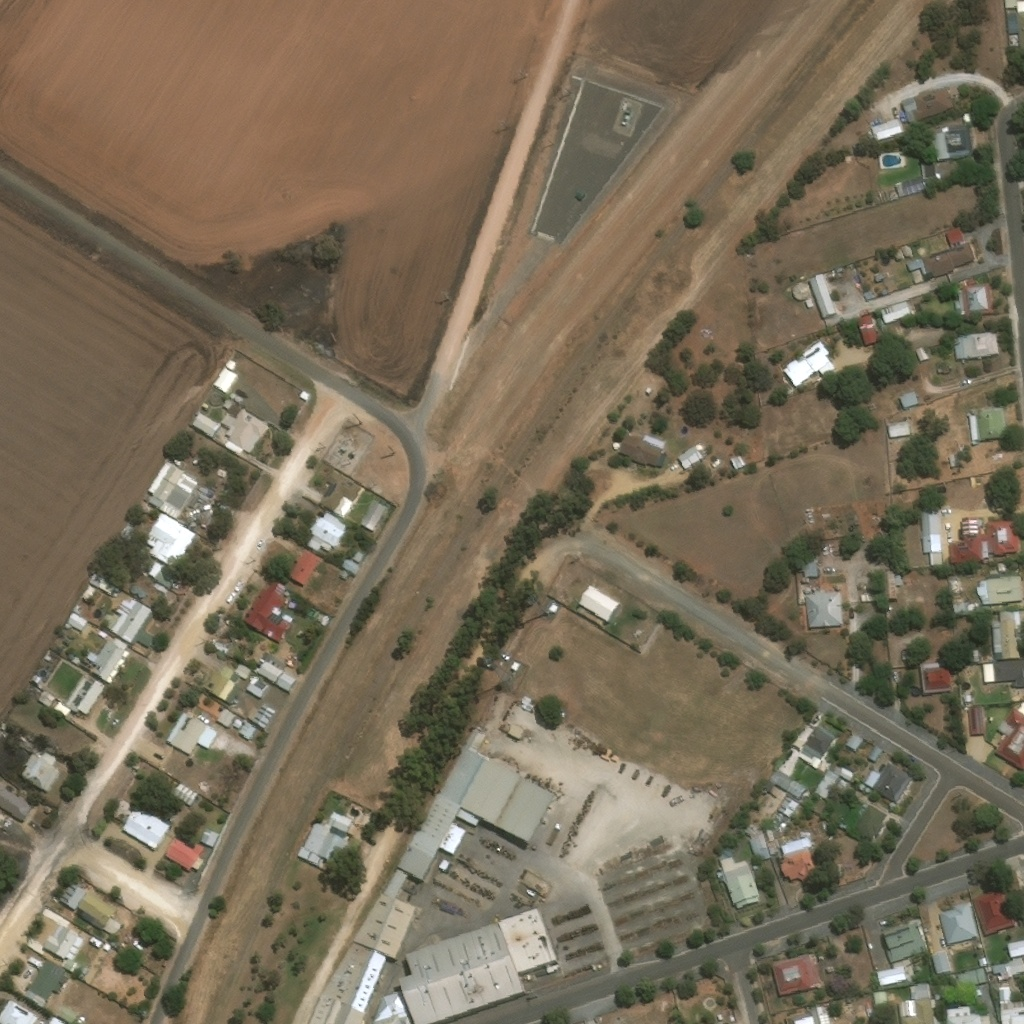0 no-damage: (397, 728, 555, 878), (400, 904, 556, 1023), (351, 891, 416, 960), (332, 949, 385, 1023), (239, 579, 295, 644), (948, 518, 1017, 562), (142, 513, 196, 568), (145, 462, 198, 518), (778, 339, 831, 388), (98, 598, 151, 643), (767, 953, 820, 998), (905, 243, 972, 278), (219, 408, 267, 455), (120, 804, 169, 850), (163, 712, 216, 754), (718, 855, 758, 909), (316, 469, 360, 518), (297, 510, 348, 551), (994, 702, 1023, 774), (84, 637, 128, 683), (899, 88, 954, 124), (882, 920, 927, 963), (22, 960, 63, 1007), (971, 889, 1012, 936), (841, 801, 886, 843), (863, 763, 911, 802), (795, 726, 838, 769), (937, 899, 975, 946), (301, 821, 345, 861), (616, 433, 667, 467), (199, 665, 241, 706), (925, 124, 971, 161), (779, 837, 817, 881), (63, 676, 104, 715), (578, 582, 620, 620), (162, 832, 203, 870), (990, 610, 1021, 660), (75, 891, 114, 930), (758, 769, 805, 800), (39, 924, 77, 960), (975, 576, 1022, 605), (950, 281, 991, 314), (952, 331, 997, 361), (371, 991, 412, 1023), (144, 559, 181, 594), (285, 547, 319, 585), (806, 592, 841, 628), (980, 659, 1023, 688), (807, 273, 834, 318), (918, 663, 950, 696), (747, 827, 778, 861), (131, 739, 165, 769), (919, 506, 940, 553), (977, 407, 1006, 441), (946, 967, 985, 990), (358, 499, 386, 531), (990, 956, 1023, 983), (0, 999, 36, 1023), (788, 1002, 829, 1023), (899, 998, 932, 1023), (58, 881, 85, 910), (853, 315, 878, 345), (879, 301, 911, 324), (88, 573, 117, 598), (190, 412, 218, 437), (812, 771, 837, 799), (211, 366, 236, 393), (243, 674, 269, 699), (945, 1005, 981, 1023), (674, 446, 702, 469), (870, 119, 900, 140), (250, 703, 275, 728), (875, 966, 905, 986), (998, 999, 1023, 1023), (255, 661, 282, 683), (170, 782, 196, 804), (949, 598, 975, 619), (295, 846, 321, 866), (966, 706, 983, 736), (776, 796, 799, 818), (326, 811, 350, 831), (881, 569, 896, 600), (273, 671, 295, 692), (300, 484, 321, 505), (64, 611, 86, 631), (931, 950, 949, 974), (198, 827, 218, 847), (801, 551, 816, 577), (214, 708, 234, 727), (897, 391, 917, 410), (908, 982, 929, 1000), (889, 245, 910, 263), (885, 421, 908, 437), (896, 999, 915, 1018), (870, 991, 886, 1012), (237, 722, 255, 740), (1006, 939, 1023, 958), (338, 557, 358, 573), (1005, 7, 1017, 33), (36, 690, 54, 707), (790, 283, 808, 300), (844, 735, 861, 752), (945, 226, 962, 243), (232, 663, 250, 679), (865, 746, 881, 763), (52, 701, 69, 716), (80, 585, 94, 601), (927, 551, 941, 566), (728, 455, 743, 469), (967, 416, 975, 442), (914, 348, 927, 363), (837, 768, 852, 781), (350, 549, 363, 563), (859, 593, 875, 604), (223, 357, 235, 370), (974, 410, 979, 441), (574, 188, 586, 200), (872, 271, 884, 282), (860, 291, 871, 302), (298, 390, 309, 400), (95, 629, 106, 639), (221, 399, 231, 409), (947, 455, 954, 469), (803, 298, 812, 308), (1006, 35, 1015, 45), (32, 676, 41, 684), (961, 695, 970, 703), (135, 590, 144, 598), (129, 585, 137, 593)
1 minor-damage: (19, 750, 67, 794)
2 major-damage: (16, 736, 34, 752), (0, 722, 6, 735)
4 un-classified: (1017, 11, 1023, 47), (1017, 0, 1023, 11)
